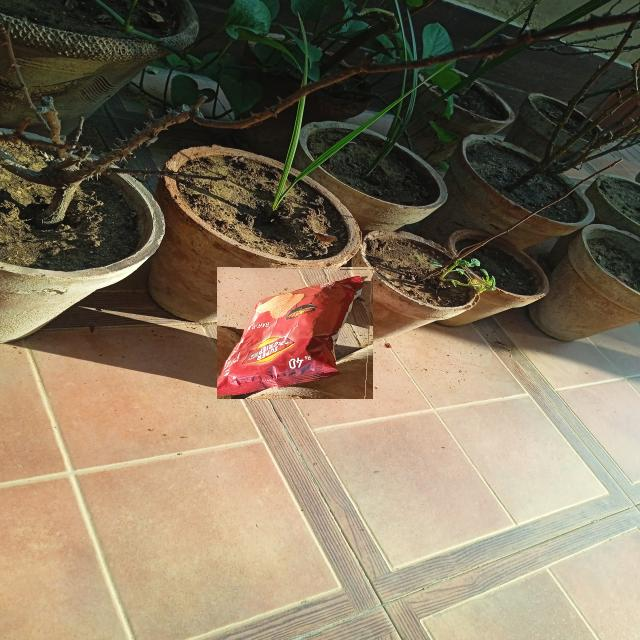Plastic: (218, 266, 374, 399)
